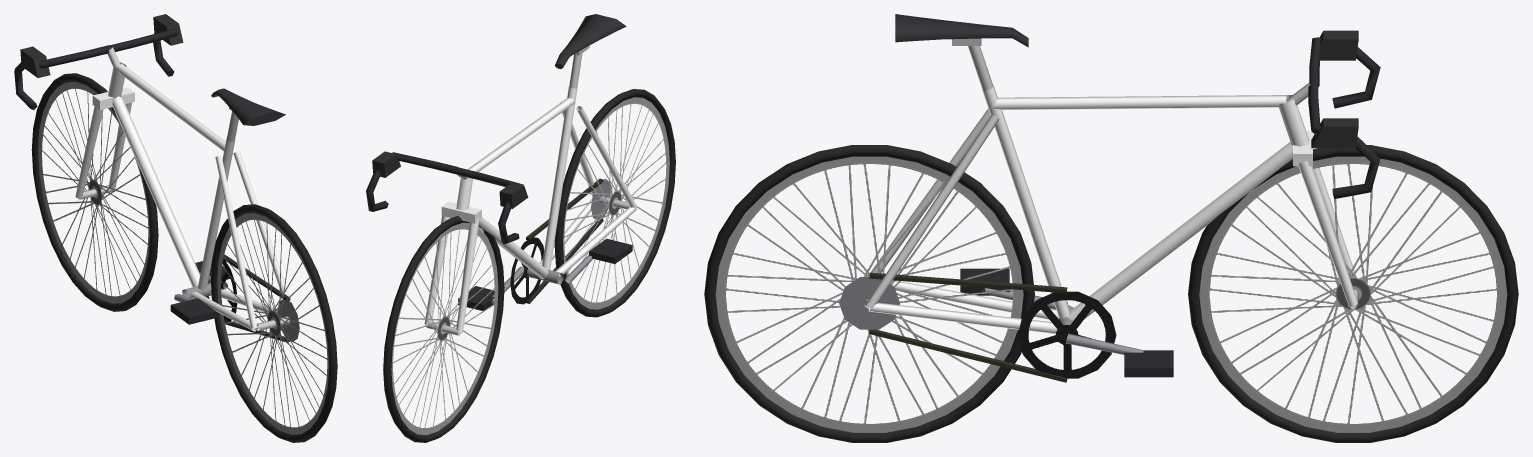
File: road.glb
3 renders of one model, left to right at view 1: azimuth 30°, elevation 25°; view 2: azimuth 150°, elevation 25°; view 3: azimuth 270°, elevation 25°, orthographic. The views are drawn at different scales.
Parts seen in each view (by area): view 1: bike; view 2: bike; view 3: bike.
Boxes of the visible parts, bbox=[...] form: bike: bbox=[14, 14, 337, 442]; bike: bbox=[366, 14, 675, 442]; bike: bbox=[704, 14, 1518, 442].
Size of the model in its own units: 0.4619 by 0.9429 by 1.65.
1 material, 1 textured.
